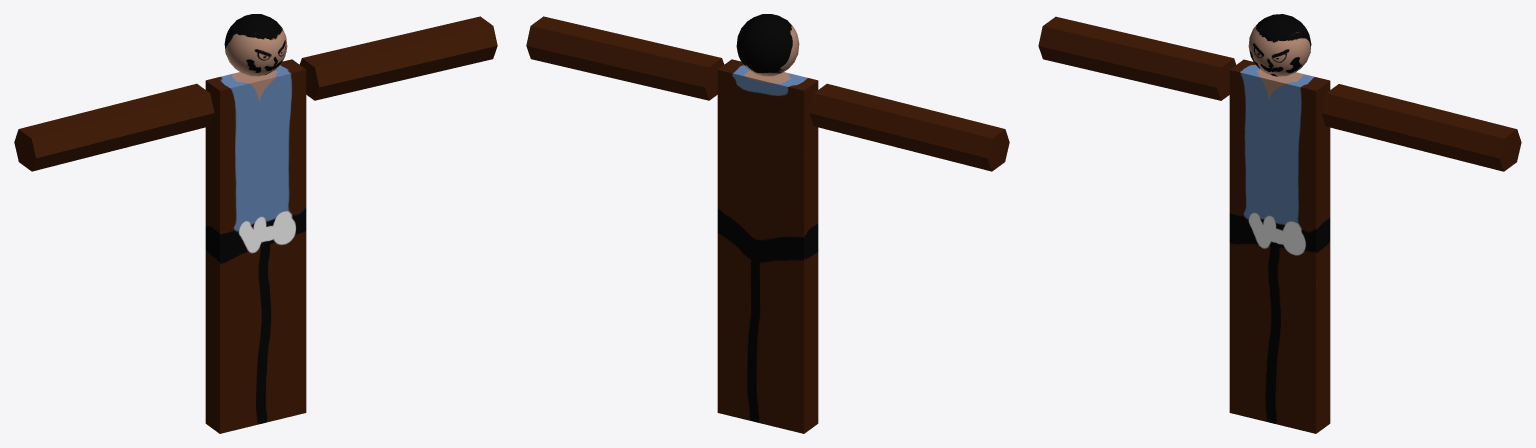
File: textured_primitives_human.glb
3 views of the same model, side by side, from view 1: azimuth 30°, elevation 25°; view 2: azimuth 150°, elevation 25°; view 3: azimuth 330°, elevation 25° (orthographic).
Parts seen in each view (by area): view 1: Cube, Cube.001, Icosphere; view 2: Cube, Cube.001, Icosphere; view 3: Cube, Cube.001, Icosphere.
Part boxes in pixels (bbox=[...]): Cube: bbox=[205, 59, 306, 433]; Cube.001: bbox=[14, 16, 497, 171]; Icosphere: bbox=[224, 14, 287, 76]; Cube: bbox=[717, 59, 818, 433]; Cube.001: bbox=[526, 16, 1009, 171]; Icosphere: bbox=[736, 14, 799, 76]; Cube: bbox=[1229, 59, 1330, 433]; Cube.001: bbox=[1038, 16, 1521, 171]; Icosphere: bbox=[1248, 14, 1311, 76].
Bounding box in the file's own units: 2.54 × 2.11 × 0.3.
1 material, 1 textured.
